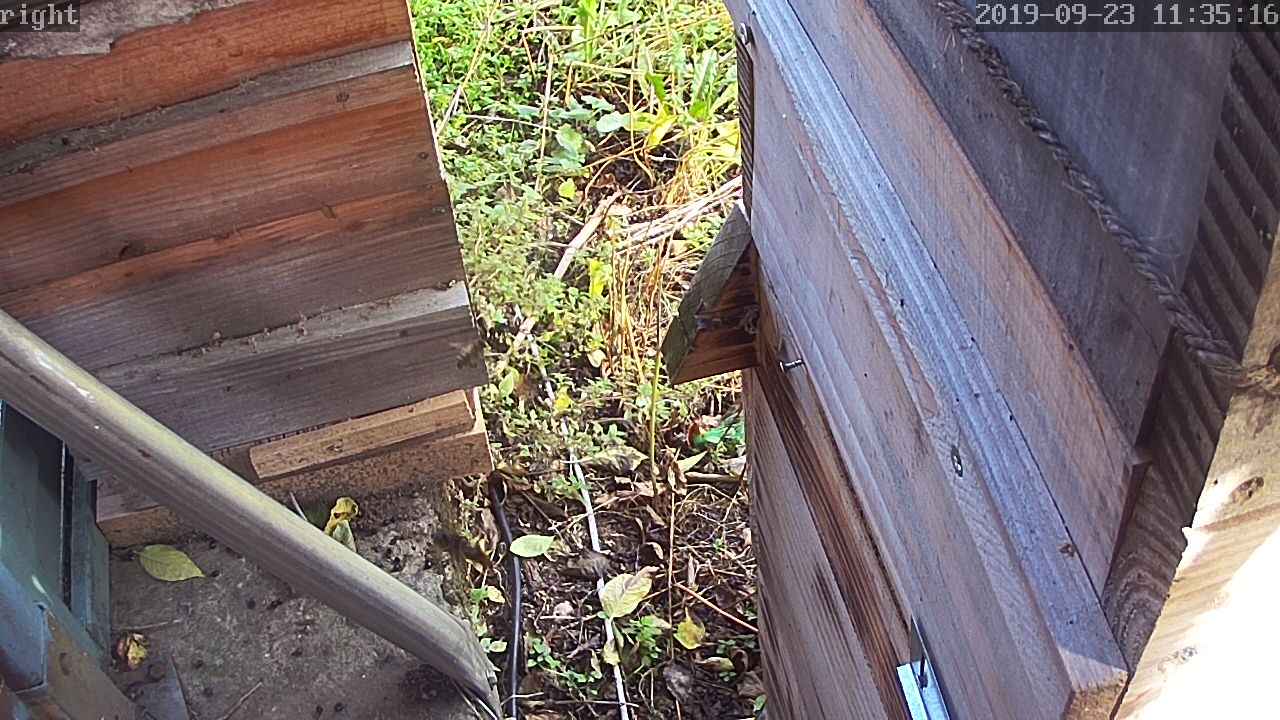hornet: (587, 132, 666, 199), (287, 478, 374, 533)
